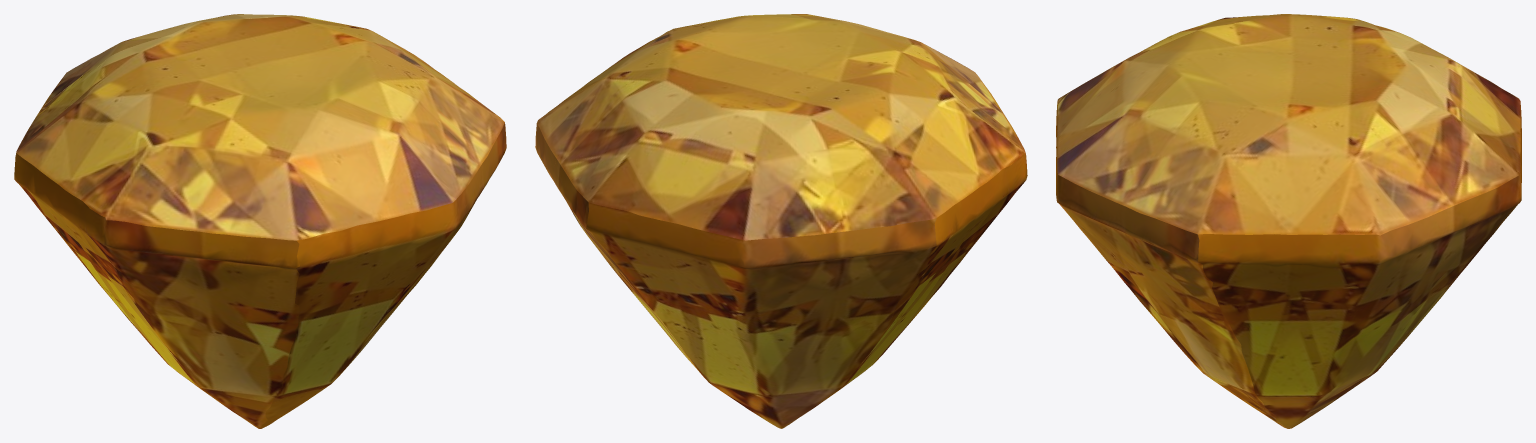
3 views of the same model, side by side, from view 1: azimuth 30°, elevation 25°; view 2: azimuth 150°, elevation 25°; view 3: azimuth 270°, elevation 25° (orthographic).
Parts seen in each view (by area): view 1: geometry_0; view 2: geometry_0; view 3: geometry_0.
Boxes of the visible parts, x1,y1,x2,y2 form: geometry_0: (14,14,506,428); geometry_0: (535,14,1027,428); geometry_0: (1056,14,1521,428).
Bounding box in the file's own units: 1 × 0.8663 × 1.
1 material, 1 textured.
